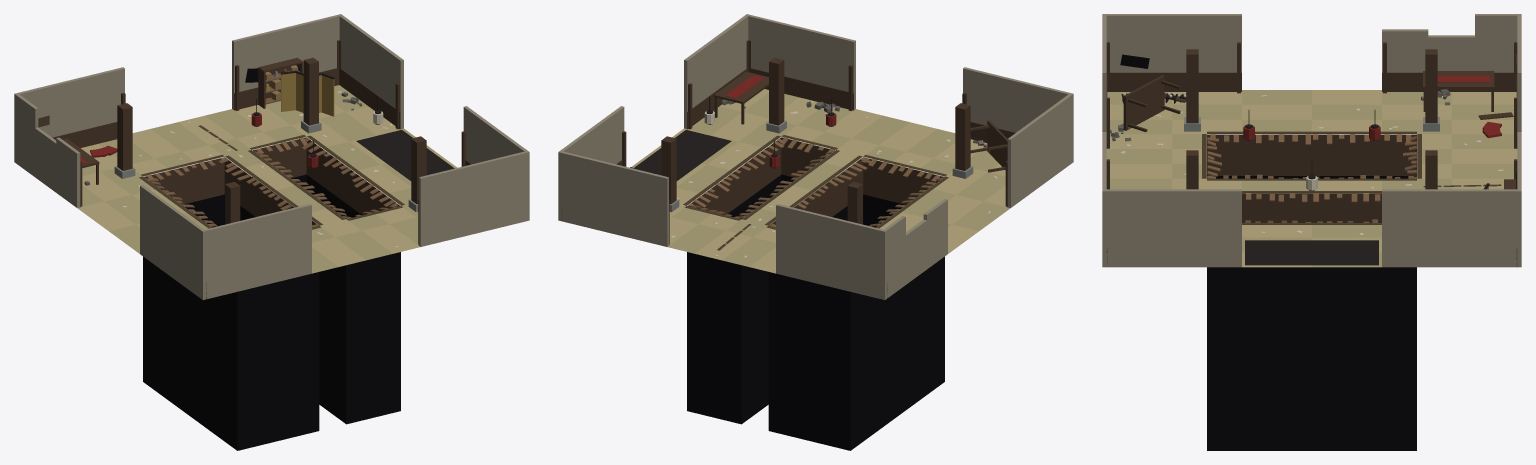
Rendered from G_C_pit.fbx.
The picture shows the model from 3 angles, left to right: view 1: azimuth 30°, elevation 25°; view 2: azimuth 150°, elevation 25°; view 3: azimuth 270°, elevation 25°; orthographic projection. The views are drawn at different scales.
Visible parts, largest first — view 1: G_C_pit, G_C_pit_Deco; view 2: G_C_pit, G_C_pit_Deco; view 3: G_C_pit, G_C_pit_Deco.
Boxes of the visible parts, x1,y1,x2,y2 form: G_C_pit: (14, 14, 529, 299); G_C_pit_Deco: (38, 40, 471, 450); G_C_pit: (558, 14, 1073, 299); G_C_pit_Deco: (561, 40, 1015, 450); G_C_pit: (1102, 14, 1521, 267); G_C_pit_Deco: (1106, 42, 1517, 450).
Bounding box in the file's own units: 2 × 2 × 1.6.
